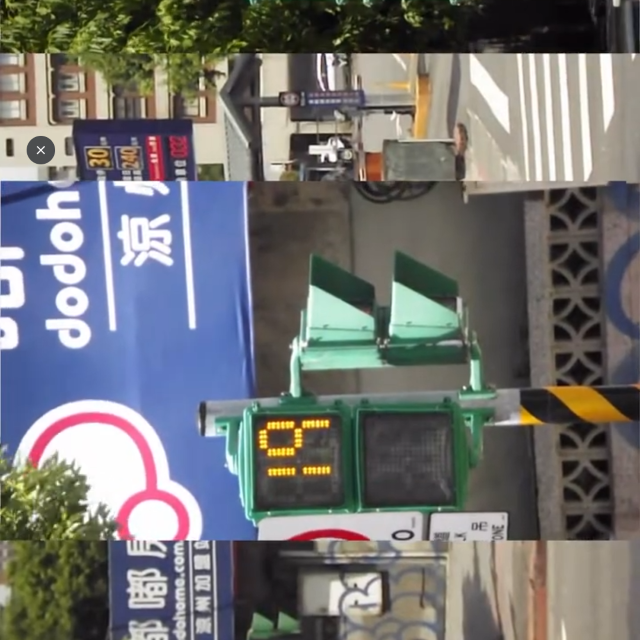green_light: (244, 407, 467, 514)
